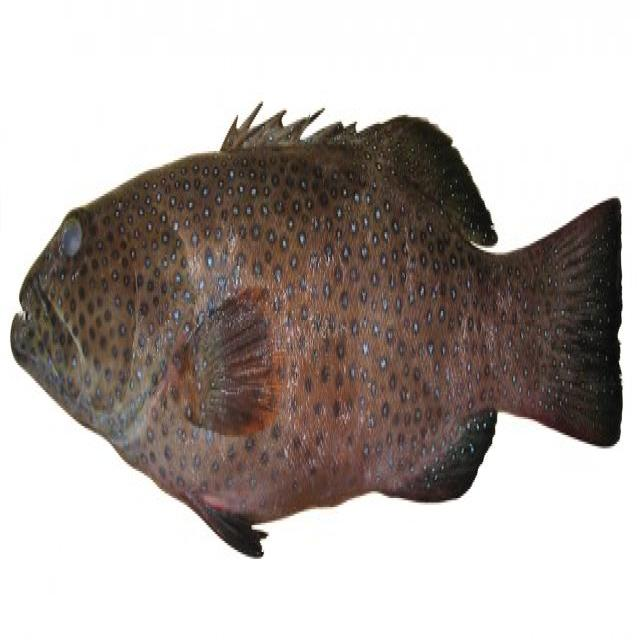Plectropomus-leopardus: (9, 43, 634, 567)
